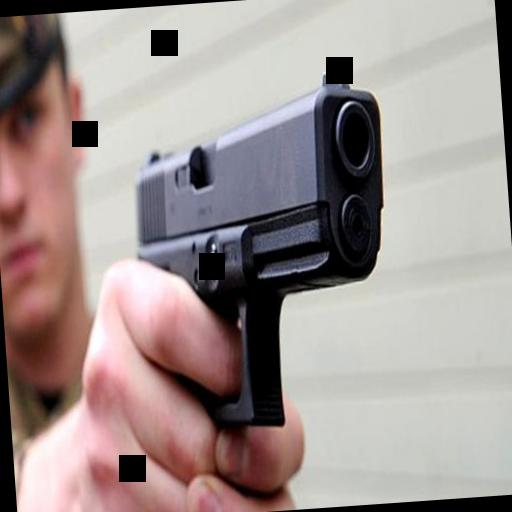Handgun: (110, 60, 406, 448)
